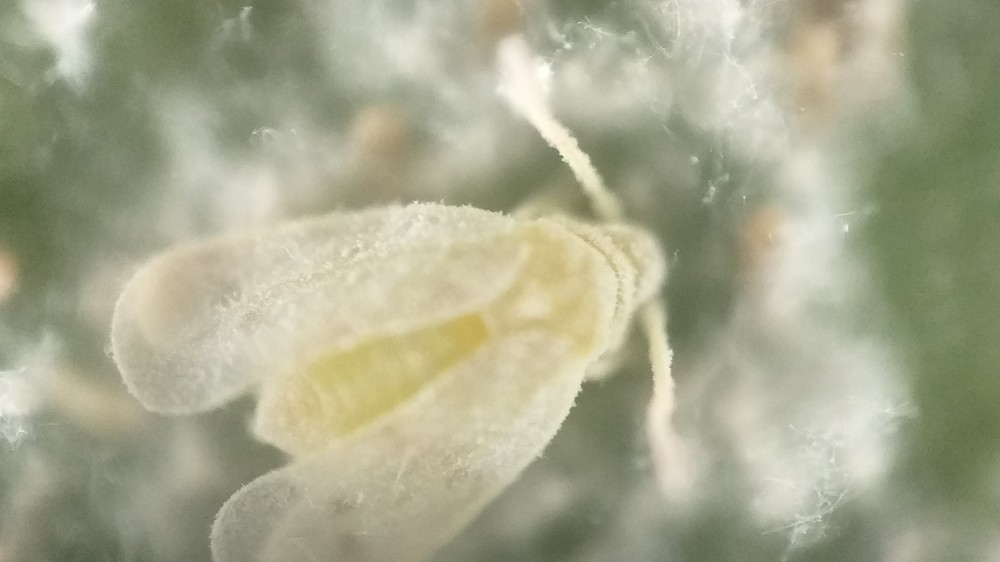Mosca Blanca: (98, 44, 740, 559)
